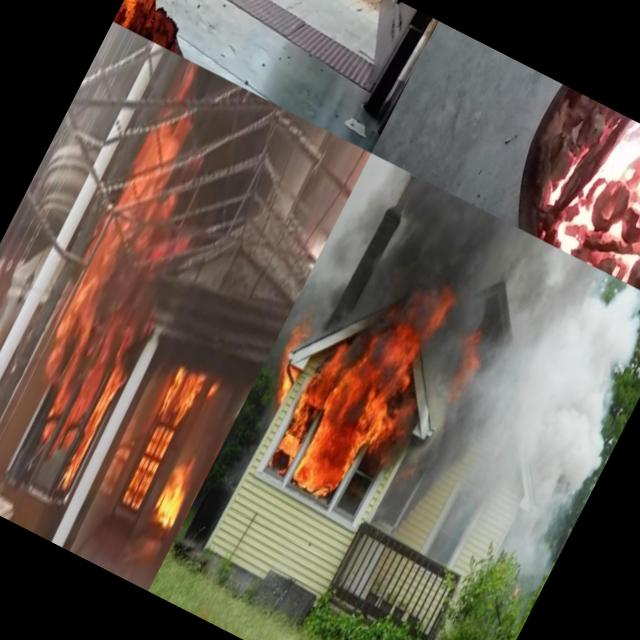fire: (25, 105, 206, 394), (264, 328, 426, 512), (525, 100, 640, 303), (19, 290, 154, 446), (381, 276, 464, 372), (144, 441, 212, 536), (257, 321, 322, 412), (427, 322, 494, 408), (148, 356, 216, 439)
smoke: (392, 236, 640, 590), (316, 154, 512, 334), (348, 387, 474, 541)
